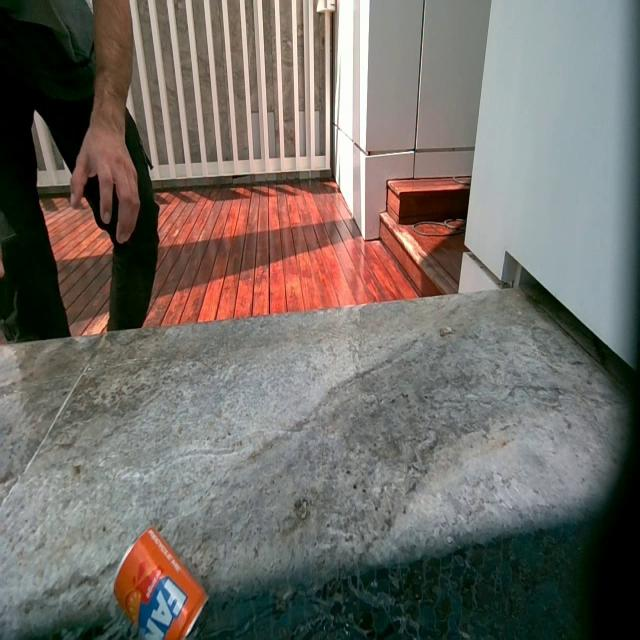Cans: (112, 525, 212, 637)
